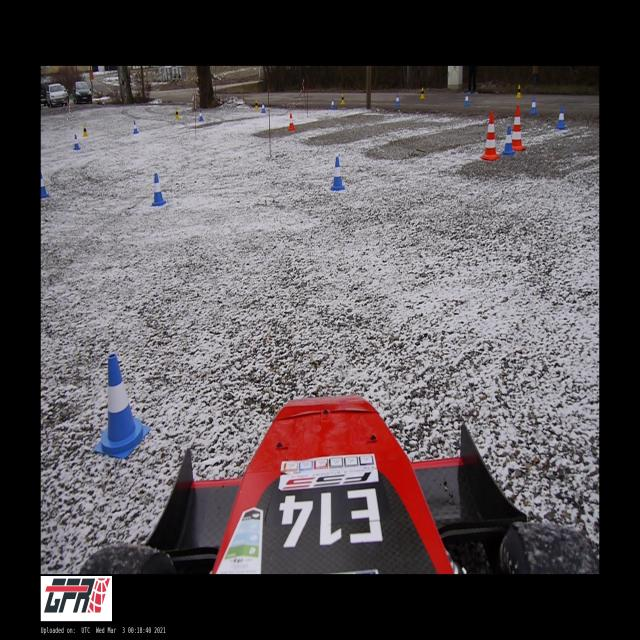blue_cone: (94, 354, 150, 458), (150, 172, 166, 206), (330, 157, 345, 190), (502, 127, 514, 155), (41, 172, 49, 200), (556, 105, 566, 127), (74, 134, 80, 150), (530, 99, 536, 113), (132, 121, 138, 134), (198, 109, 204, 121), (465, 92, 469, 106), (330, 98, 335, 109), (261, 102, 266, 113), (395, 94, 399, 106)
large_orange_cone: (480, 111, 500, 161), (510, 106, 526, 150)
orange_cone: (288, 113, 296, 131)
yellow_cone: (516, 85, 522, 99), (82, 125, 88, 136), (420, 87, 425, 99), (254, 99, 259, 110), (175, 108, 179, 120), (341, 92, 345, 104)
